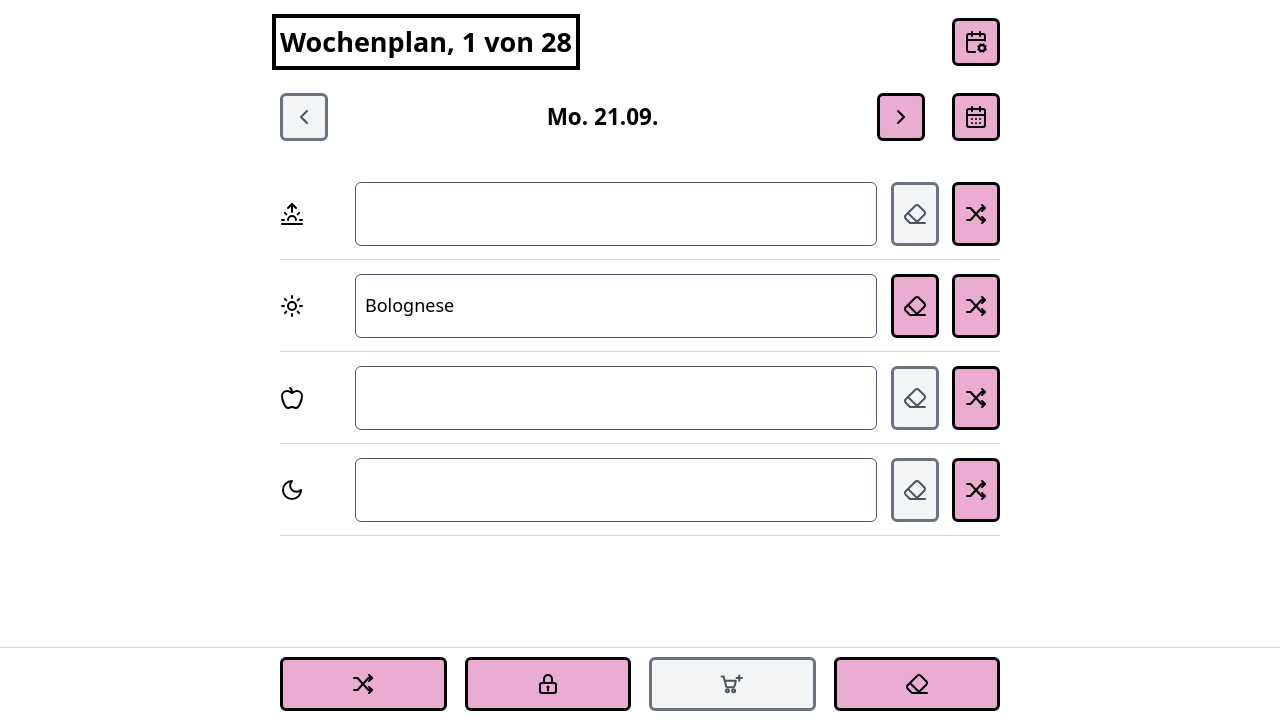
Scenario: WeekPlanArea › returns to the planned meal when typing led nowhere
The image size is (1280, 720).
Type "quark" into the field named "Mittagessen". click: (616, 306)
box: [355, 274, 877, 338]
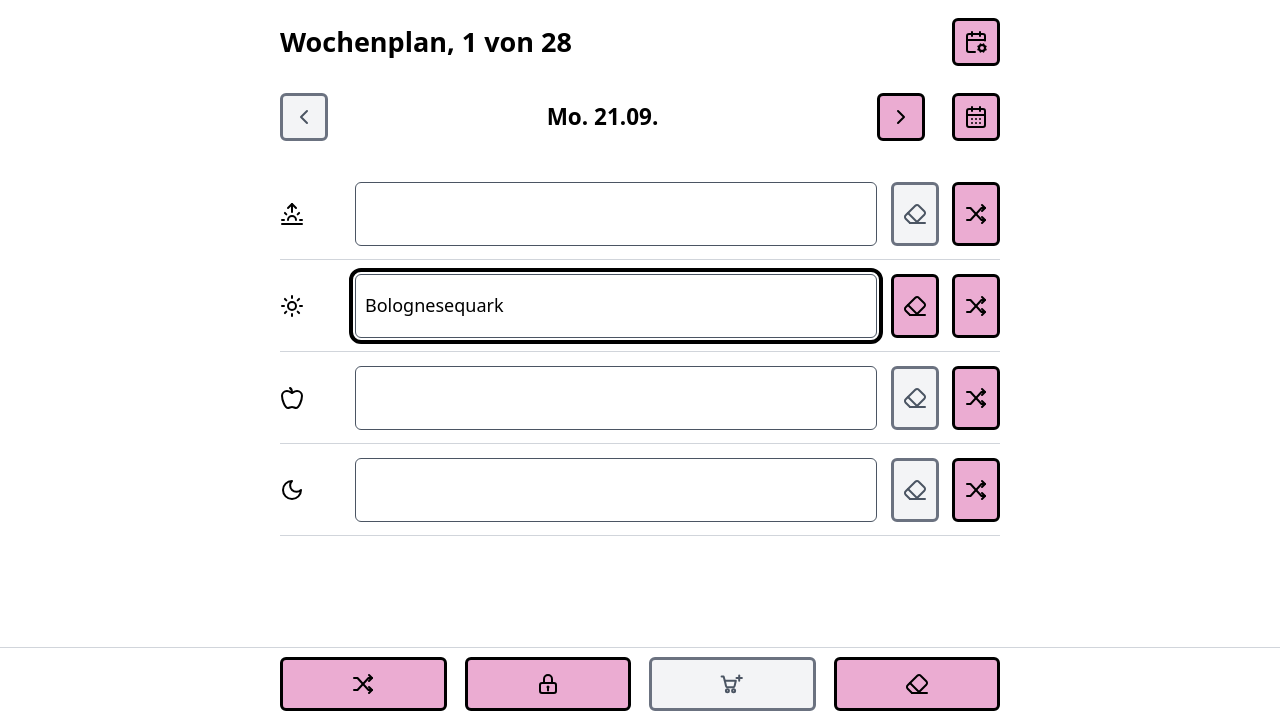
Now the field named "Mittagessen" holds "Bolognesequark", box [355, 274, 877, 338]
Click the field named "Abendessen". click: click(616, 490)
box: [355, 458, 877, 522]
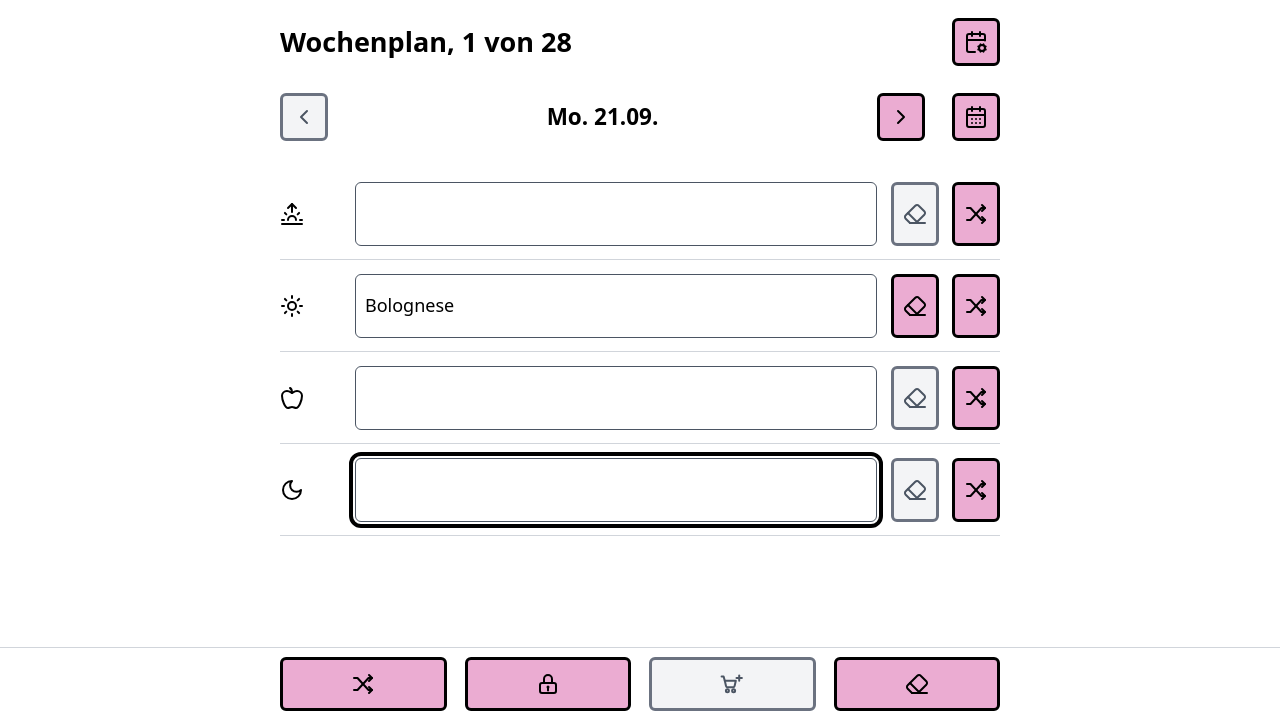
Now the field named "Mittagessen" holds "Bolognese", box [355, 274, 877, 338]
